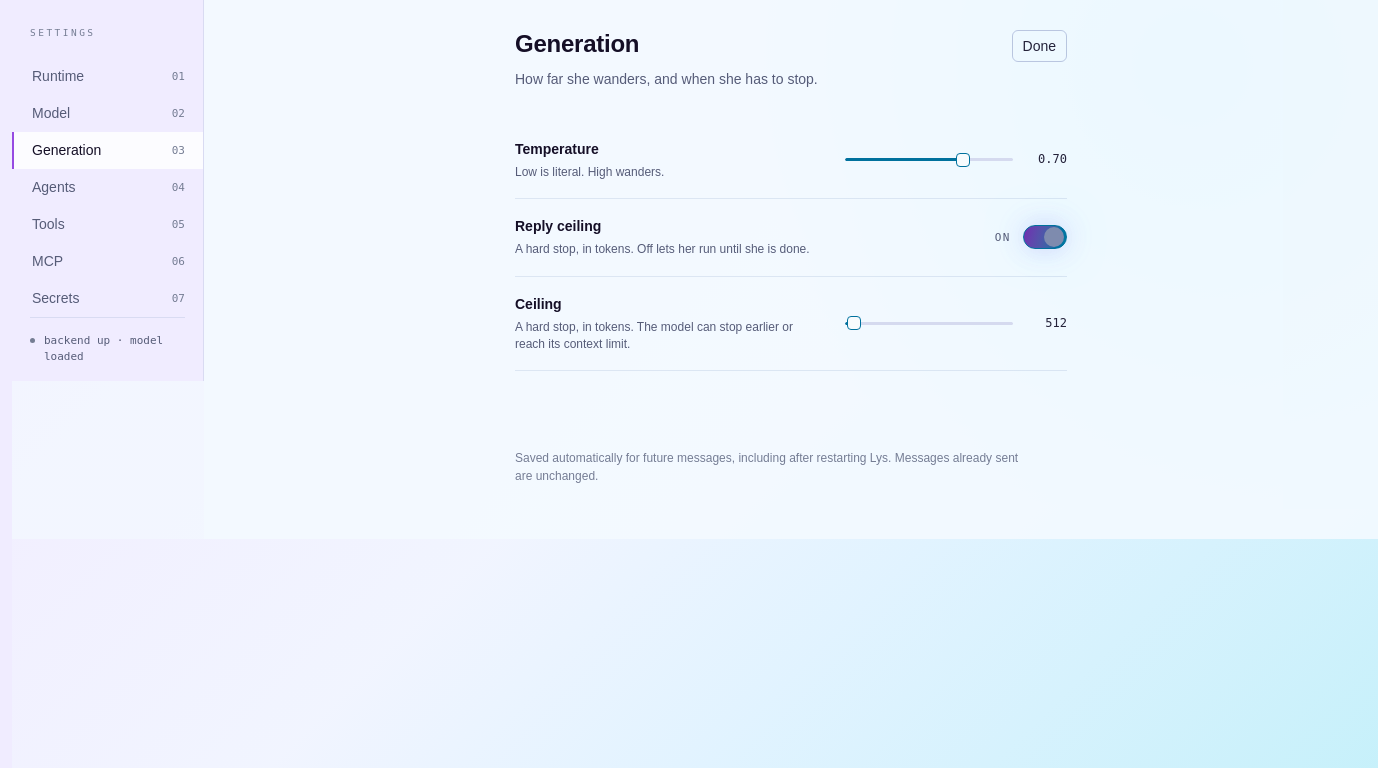
Test case: GenerationPaneContent › switches the reply ceiling off, and back on to the default
The image size is (1378, 768).
Click the switch named "Reply ceiling" at (1045, 237), box x1=1023 y1=225 x2=1067 y2=249
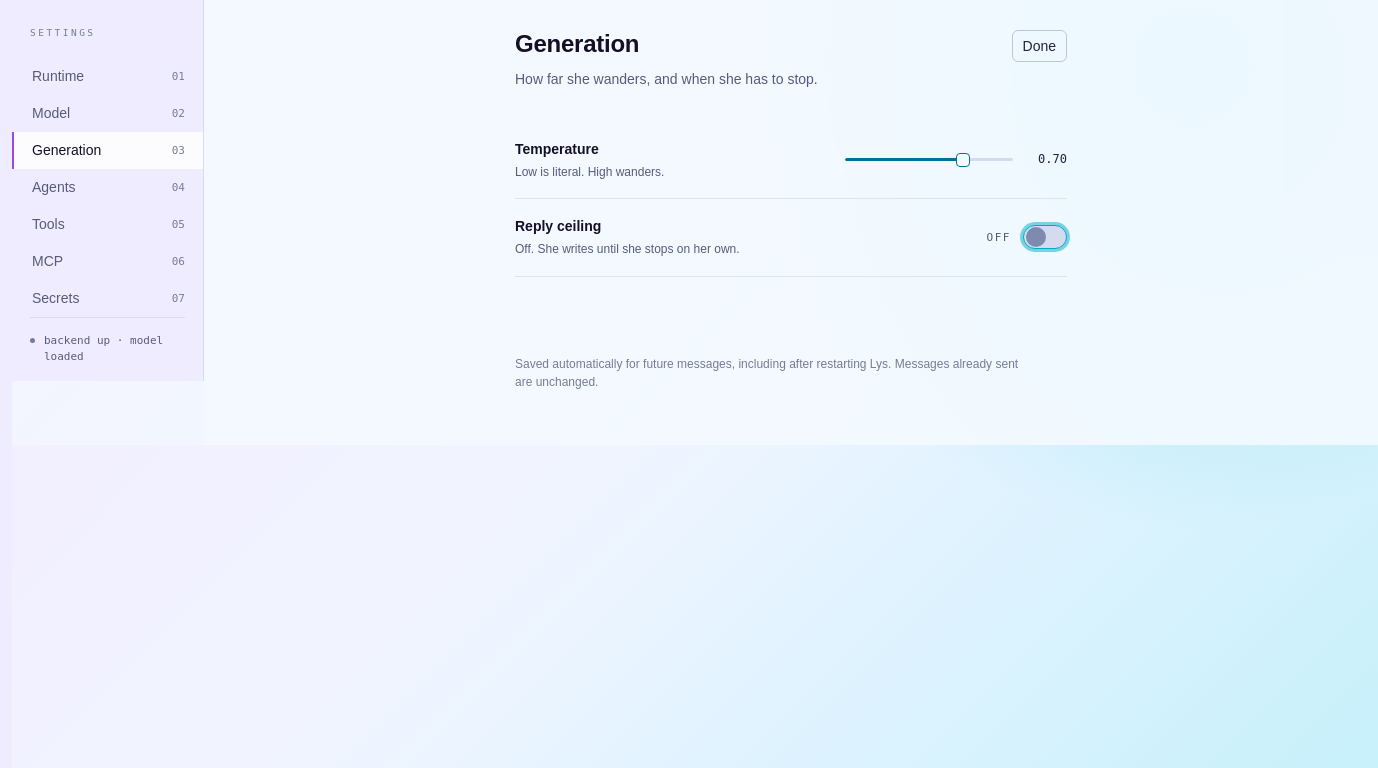
expect the switch named "Reply ceiling" is not checked: met
Click the switch named "Reply ceiling" at (1045, 237), box x1=1023 y1=225 x2=1067 y2=249
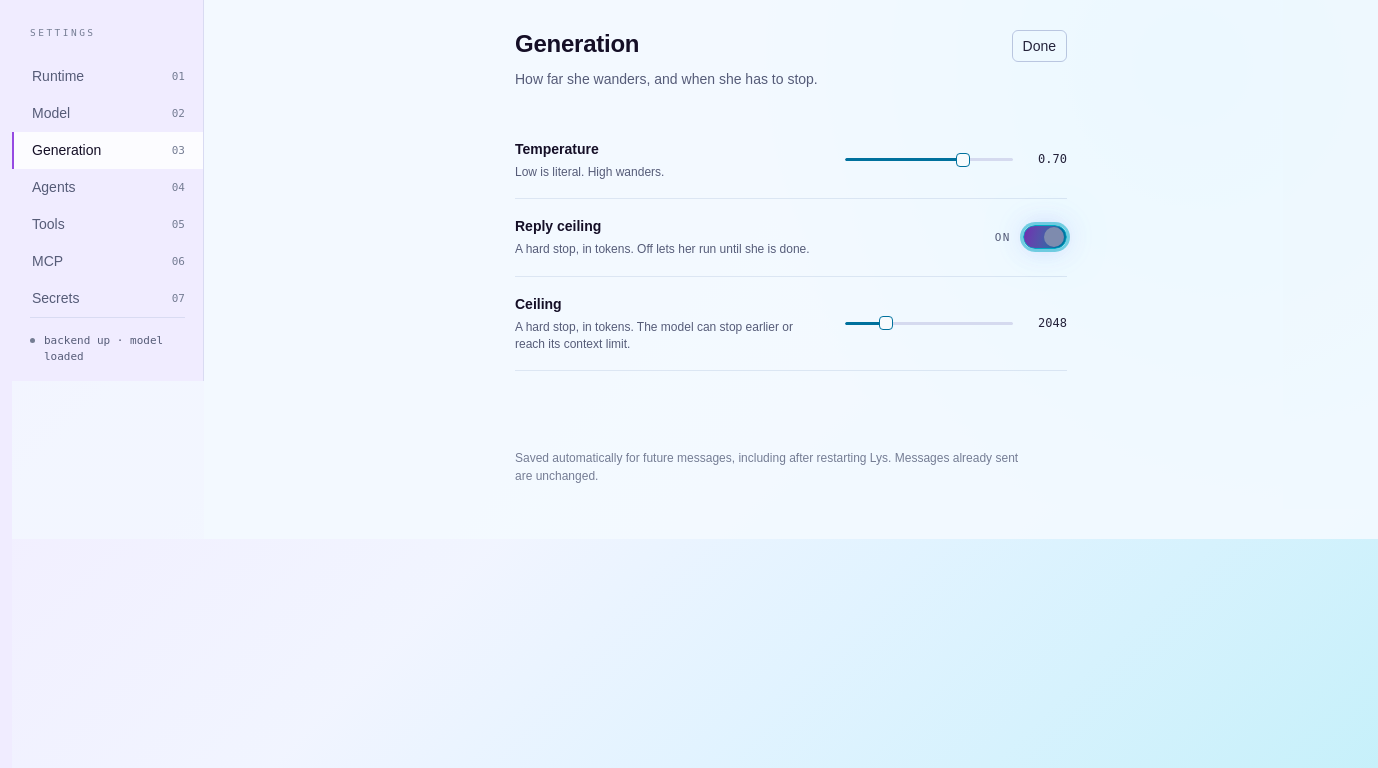
expect the slider labelled "Ceiling" is shown: met, box x1=880 y1=318 x2=892 y2=330
